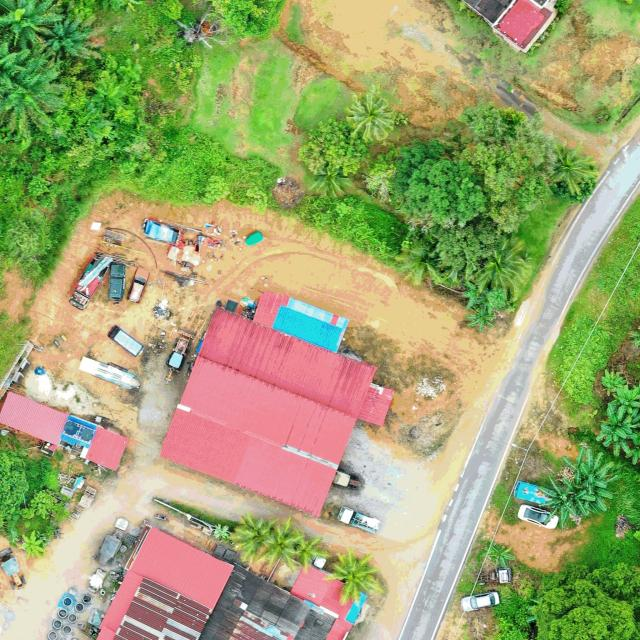Tree: (464, 106, 560, 234), (362, 134, 488, 228), (0, 47, 67, 142), (297, 114, 373, 178), (468, 239, 530, 295), (324, 547, 384, 604), (0, 0, 66, 48), (541, 142, 599, 196), (344, 91, 399, 140), (562, 445, 618, 489), (596, 403, 640, 457), (260, 517, 303, 571), (229, 512, 274, 563), (540, 477, 578, 532), (305, 162, 355, 200), (574, 474, 613, 516), (294, 535, 328, 572), (463, 306, 497, 333), (610, 384, 640, 414), (601, 368, 628, 396), (487, 543, 516, 569)
